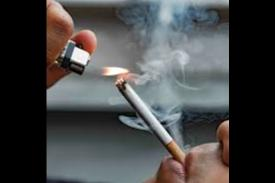controlled_fire: (82, 36, 162, 99)
